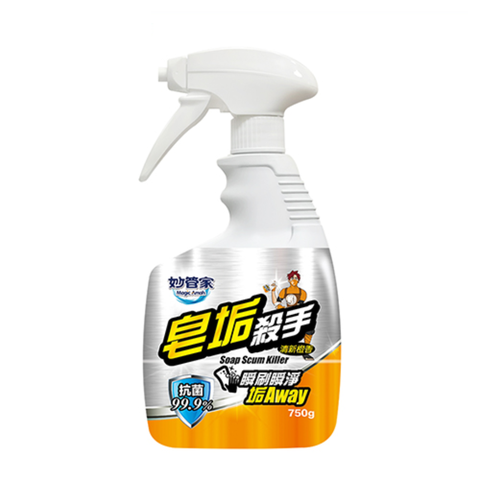cleaner: (127, 51, 364, 449)
